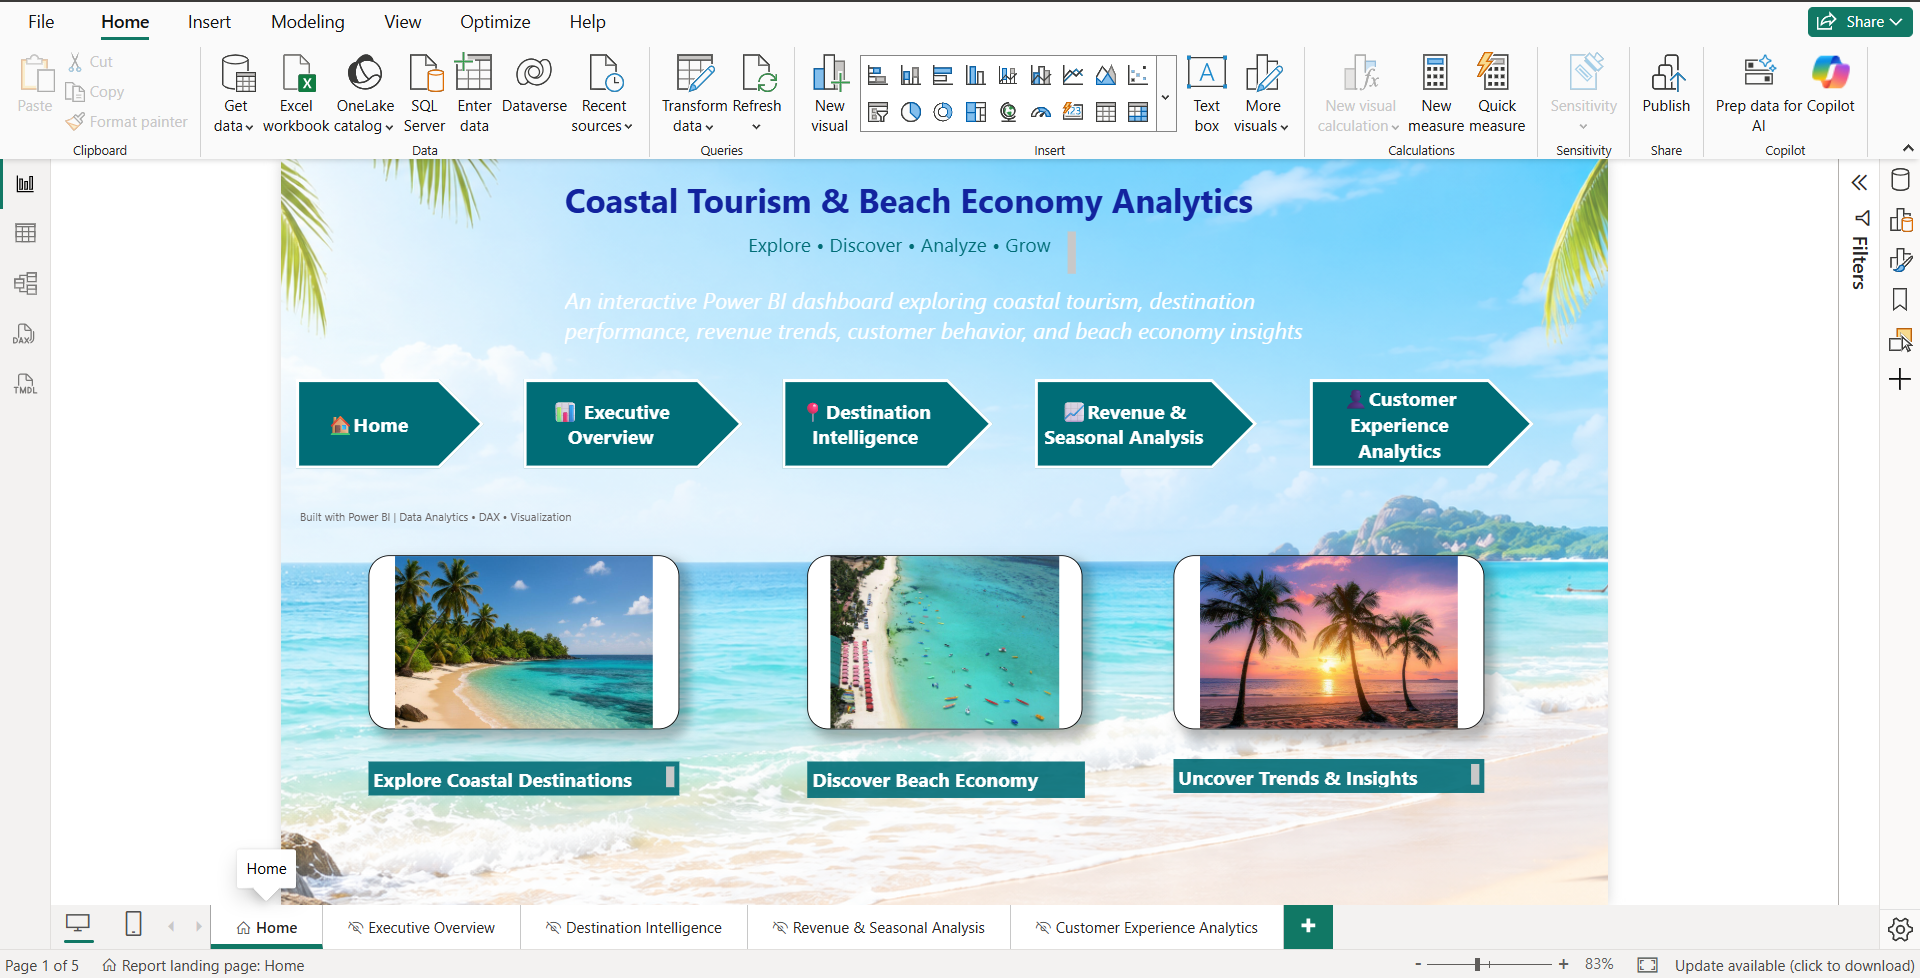

Layout of this report page (visuals, bound fields, positions):
{"tool":"powerbi","page":{"name":"Home","canvas":[1280,720],"ordinal":0},"visuals":[{"type":"textbox","box":[269.5,13.6,740.7,128.8],"z":0},{"type":"textbox","box":[445.9,65.2,325.8,51.4],"z":1000},{"type":"textbox","box":[269.2,116.6,782,108],"z":2000},{"type":"actionButton","title":"🏠Home","box":[14.4,212.1,181.8,86.6],"z":3000},{"type":"actionButton","title":"📈Revenue & Seasonal Analysis","box":[727.2,212.1,215,86.6],"z":4000},{"type":"actionButton","title":"📍Destination Intelligence","box":[483.3,212.1,203.4,86.6],"z":5000},{"type":"actionButton","title":"📊 Executive Overview","box":[233.7,212.1,212.1,86.6],"z":6000},{"type":"actionButton","title":"👤Customer Experience Analytics","box":[992.6,212.1,216.4,86.6],"z":7000},{"type":"image","box":[860.9,382.4,300.1,168.1],"z":8000},{"type":"image","box":[84,382.4,300.1,168.1],"z":9000},{"type":"image","box":[507.6,382.4,265.8,168.1],"z":10000},{"type":"textbox","box":[84,581.4,300.1,32.6],"z":11000},{"type":"textbox","box":[507.9,581.5,267.8,35],"z":12000},{"type":"textbox","box":[860.9,579.6,300.1,32.6],"z":13000},{"type":"textbox","box":[13.7,331,276.1,51.4],"z":14000}]}

Visuals, with their boxes on the page's 1280x720 design canvas (x1, y1, x2, y2). These are canvas units, not pixel positions in the 1920x978 screenshot, which may show the page scaled, cropped or inside an application window:
textbox: 270, 14, 1010, 142
textbox: 446, 65, 772, 117
textbox: 269, 117, 1051, 225
"🏠Home" actionButton: 14, 212, 196, 299
"📈Revenue & Seasonal Analysis" actionButton: 727, 212, 942, 299
"📍Destination Intelligence" actionButton: 483, 212, 687, 299
"📊 Executive Overview" actionButton: 234, 212, 446, 299
"👤Customer Experience Analytics" actionButton: 993, 212, 1209, 299
image: 861, 382, 1161, 550
image: 84, 382, 384, 550
image: 508, 382, 773, 550
textbox: 84, 581, 384, 614
textbox: 508, 582, 776, 616
textbox: 861, 580, 1161, 612
textbox: 14, 331, 290, 382
